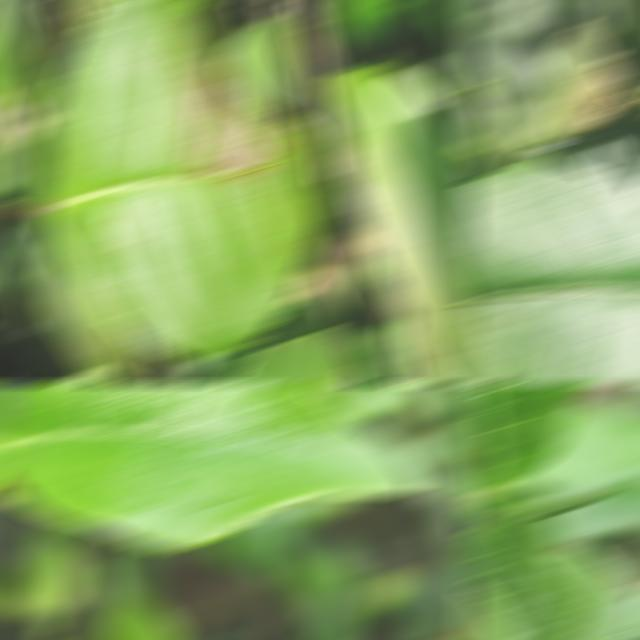Leaf: (36, 2, 328, 354), (0, 386, 422, 546), (325, 68, 474, 382), (460, 143, 640, 382), (16, 221, 136, 378), (460, 518, 597, 638), (460, 386, 591, 491), (460, 31, 554, 168), (519, 402, 640, 492), (407, 441, 474, 590), (94, 559, 187, 638), (25, 524, 88, 638), (219, 19, 293, 111), (280, 555, 360, 638), (0, 2, 47, 105), (330, 2, 411, 49), (339, 386, 423, 418), (15, 129, 53, 199)
